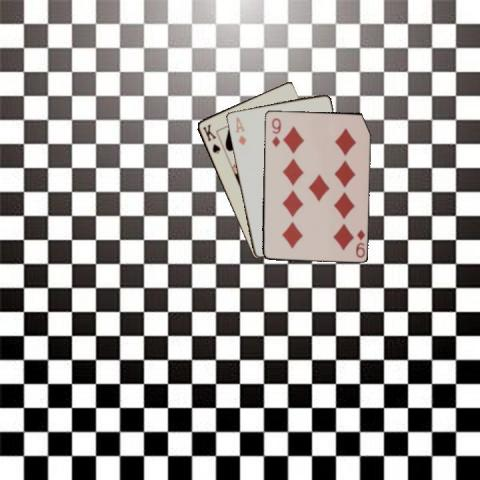9d: (269, 115, 281, 148), (353, 227, 365, 258)
Ad: (232, 114, 247, 147)
Ks: (200, 122, 222, 155)
